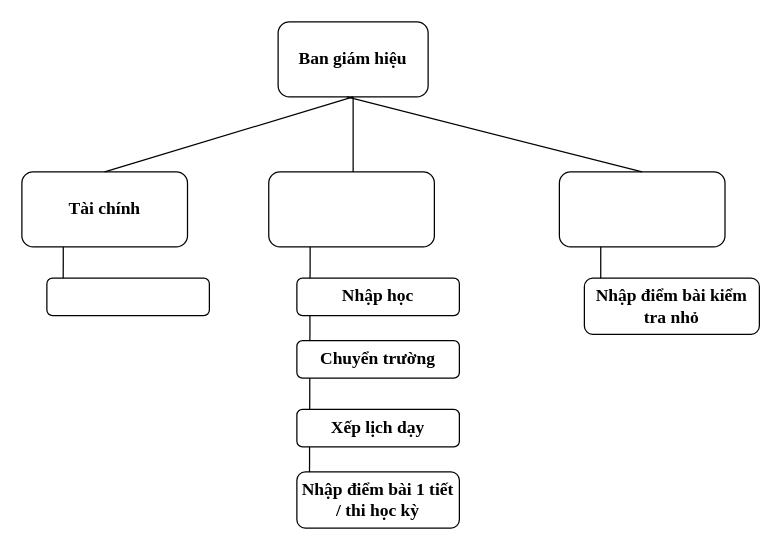
This 781x550 diagram has some shape labels left out. The shapes that lost their labels are listed below. From the top down, each one's centre as x and y in pixels, then its label:
At point (351, 209): "Giáo vụ".
At point (641, 209): "Giáo viên".
At point (127, 296): "Thu học phí".
